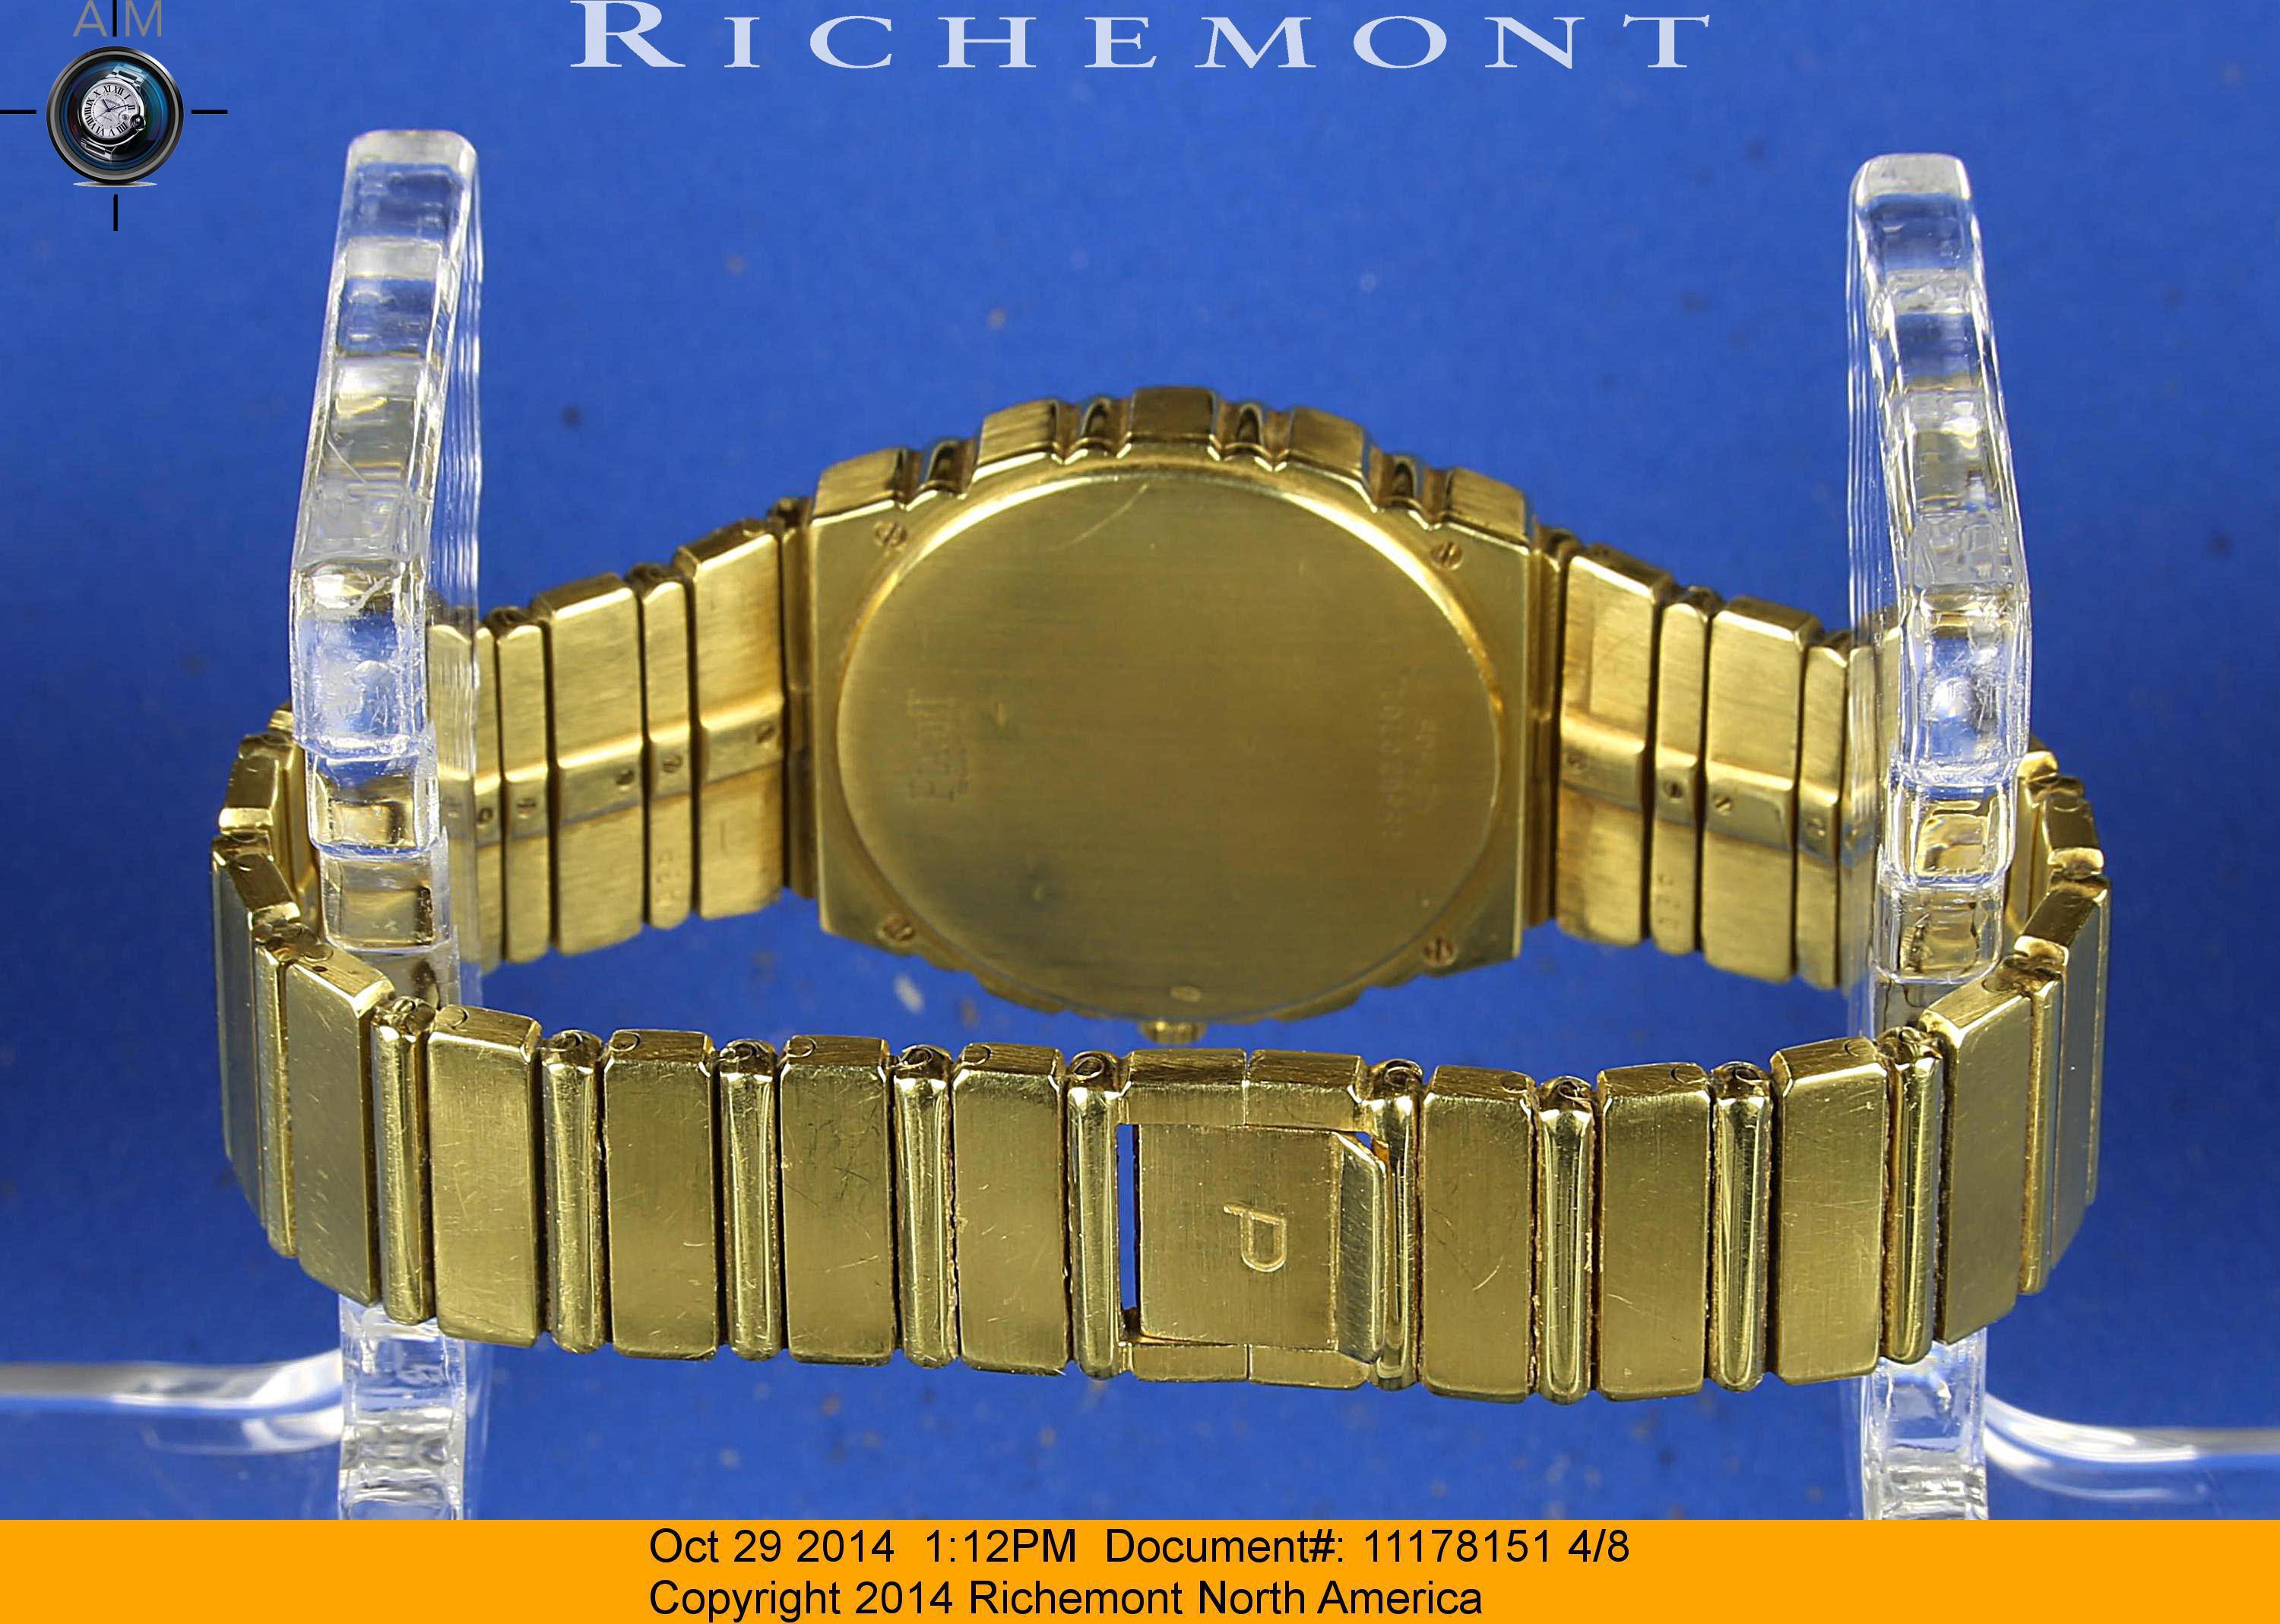Watch BackCase: (770, 371, 1550, 1042)
